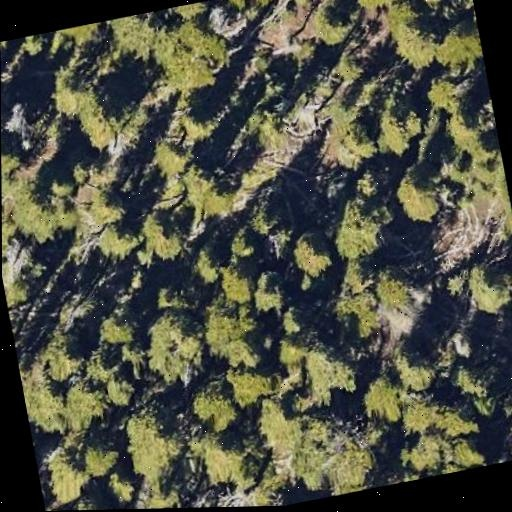tree-top: (141, 12, 236, 105), (289, 403, 380, 500), (419, 186, 512, 268), (107, 396, 189, 488), (320, 186, 402, 267), (135, 301, 210, 387), (292, 331, 364, 408), (192, 290, 266, 363), (446, 251, 512, 327), (383, 161, 450, 235), (322, 267, 391, 337), (371, 0, 438, 70), (189, 425, 258, 492), (442, 349, 508, 418), (364, 94, 427, 163), (322, 104, 384, 173), (1, 167, 56, 243), (182, 372, 246, 437), (34, 441, 95, 507), (352, 365, 410, 431), (140, 125, 203, 185), (133, 206, 193, 268), (76, 175, 133, 237), (101, 10, 163, 66), (240, 103, 297, 163), (420, 63, 478, 121), (393, 426, 455, 479), (284, 223, 339, 282), (2, 229, 45, 304), (36, 329, 91, 387), (56, 372, 108, 433), (220, 359, 279, 412), (79, 86, 128, 145), (20, 368, 66, 429), (307, 0, 359, 52), (431, 12, 481, 66), (242, 264, 291, 318), (394, 387, 445, 437), (214, 256, 261, 310), (92, 303, 144, 351), (92, 213, 142, 261), (48, 76, 93, 129), (95, 366, 143, 415), (320, 468, 399, 497), (249, 393, 296, 441), (77, 435, 124, 482), (45, 20, 113, 52), (183, 242, 227, 291), (395, 348, 444, 389), (82, 345, 126, 390), (444, 428, 488, 472), (329, 45, 370, 90), (376, 261, 415, 308), (99, 465, 141, 508), (463, 121, 499, 165), (176, 105, 214, 146), (67, 485, 126, 511), (144, 475, 189, 509), (211, 481, 268, 507), (438, 149, 476, 188), (223, 223, 259, 264), (267, 332, 305, 369), (1, 97, 33, 139), (47, 194, 81, 233), (197, 181, 232, 218), (69, 157, 105, 191), (471, 147, 505, 183), (1, 130, 26, 177), (446, 326, 475, 364), (17, 32, 51, 63), (257, 72, 288, 104), (43, 493, 96, 511), (151, 281, 180, 311), (170, 0, 210, 20), (350, 0, 402, 15), (484, 82, 497, 132), (498, 416, 512, 461), (465, 0, 479, 40), (229, 0, 275, 12), (406, 0, 450, 12), (44, 498, 78, 511), (0, 39, 16, 60)
